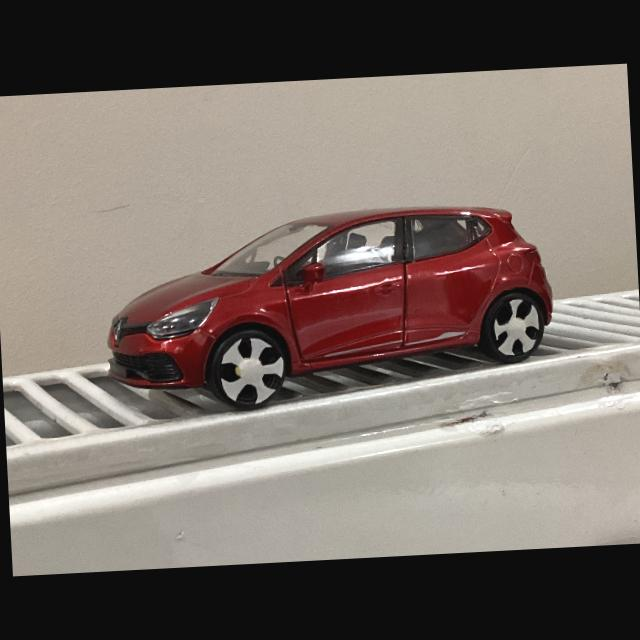Yanlis_Jant: (218, 336, 287, 408), (491, 298, 542, 357)
